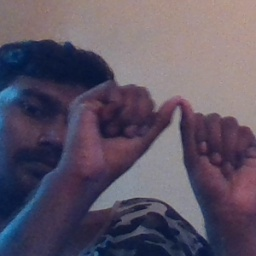A: (107, 74, 242, 187)
